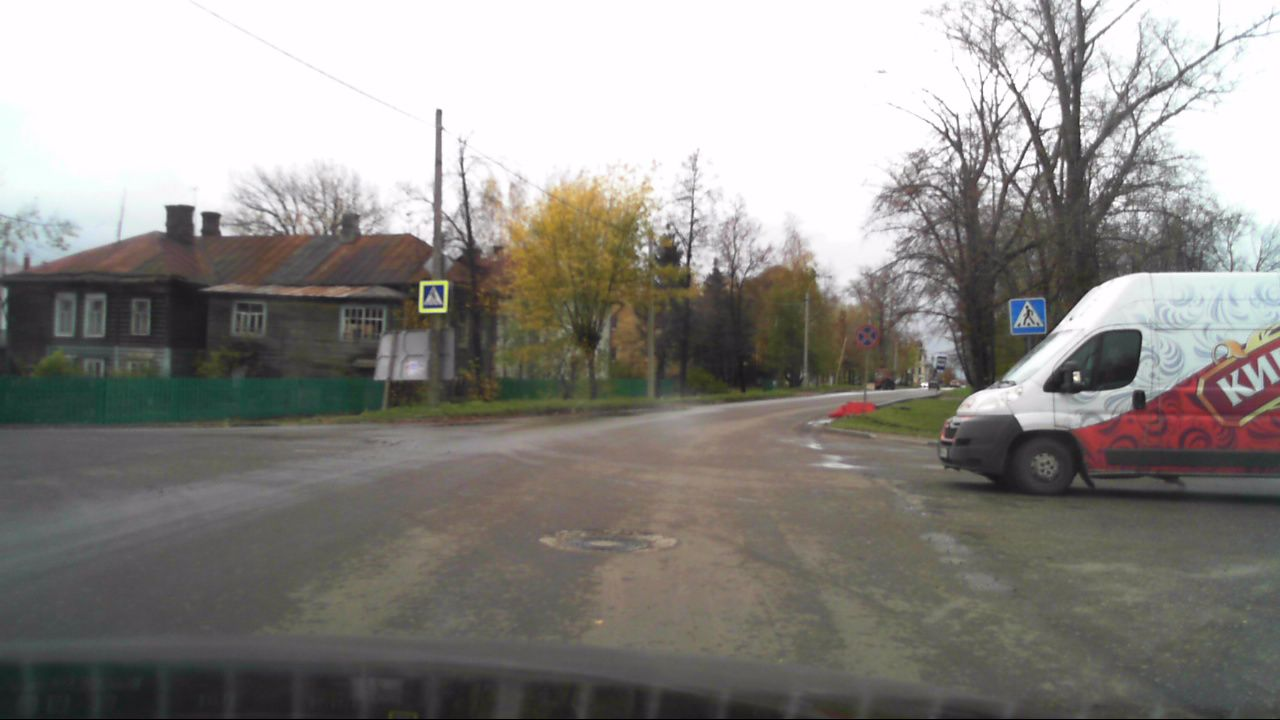No Parking: (853, 325, 877, 350)
